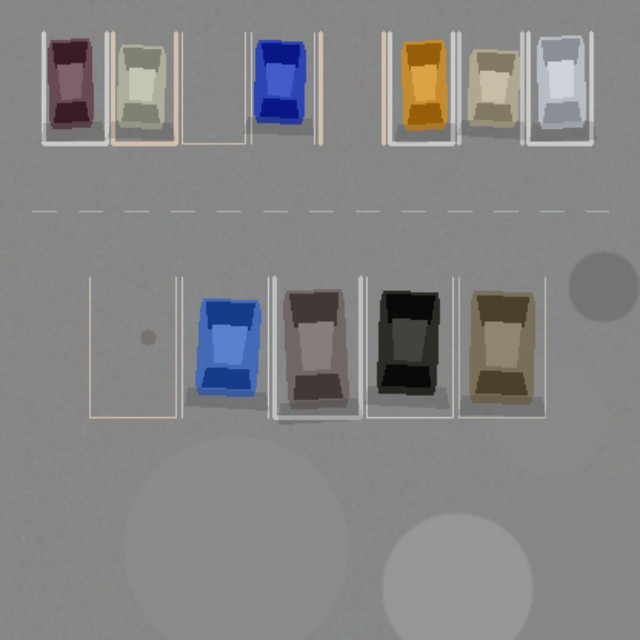space-empty: (89, 277, 175, 417), (182, 32, 245, 143), (320, 32, 383, 143)
space-occupied: (458, 277, 545, 417), (182, 277, 268, 417), (274, 277, 360, 417), (366, 277, 452, 417), (458, 32, 522, 143), (43, 32, 106, 143), (112, 32, 175, 143), (251, 32, 314, 143), (389, 32, 452, 143), (528, 32, 591, 143)
